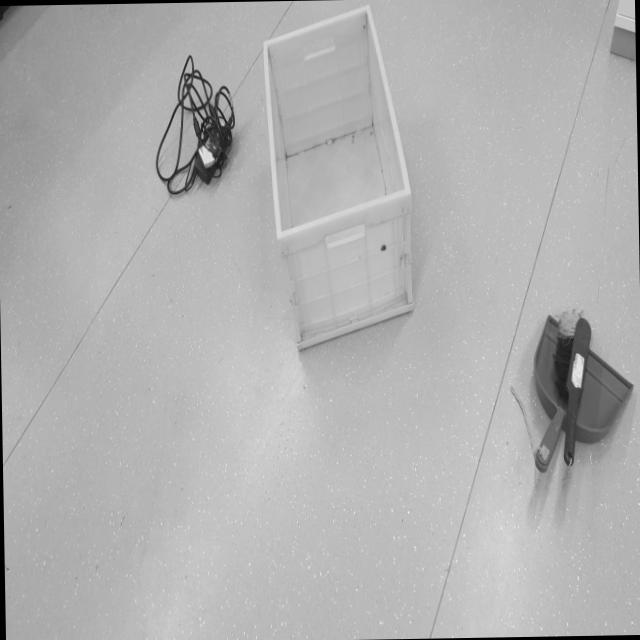box: (255, 0, 422, 394)
